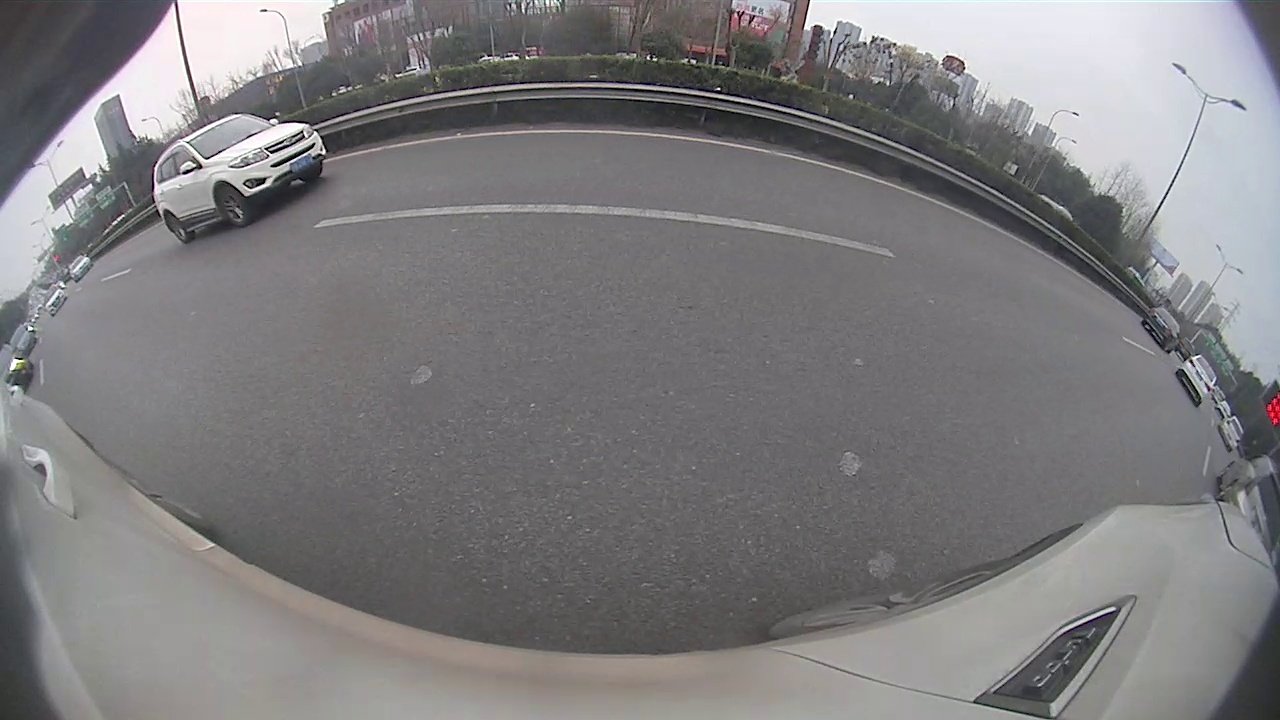car: (153, 111, 328, 248), (1175, 355, 1220, 407), (1141, 306, 1182, 354)
front: (216, 185, 257, 228)
rear: (165, 213, 197, 245)
